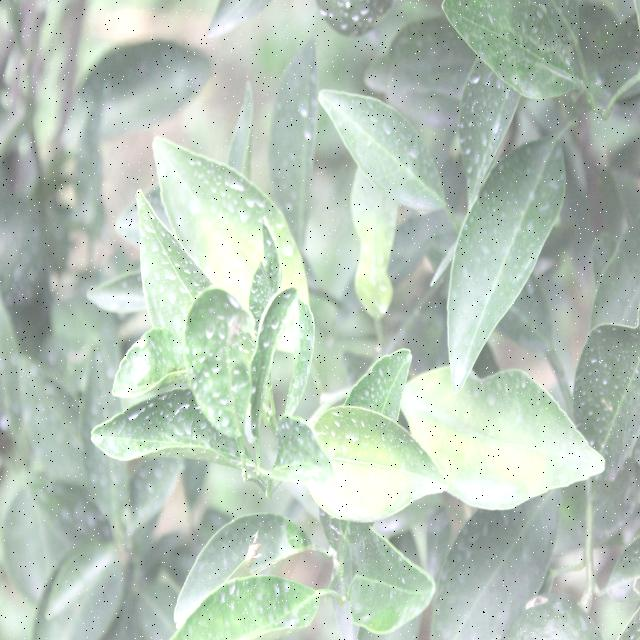greening: (160, 148, 284, 303), (434, 378, 583, 503), (320, 408, 432, 507), (165, 582, 327, 640), (348, 168, 403, 314)
